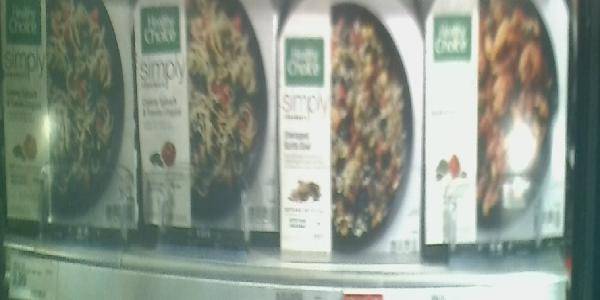pizza1: (279, 1, 423, 262), (422, 1, 568, 247), (133, 1, 281, 241), (1, 1, 141, 238)
